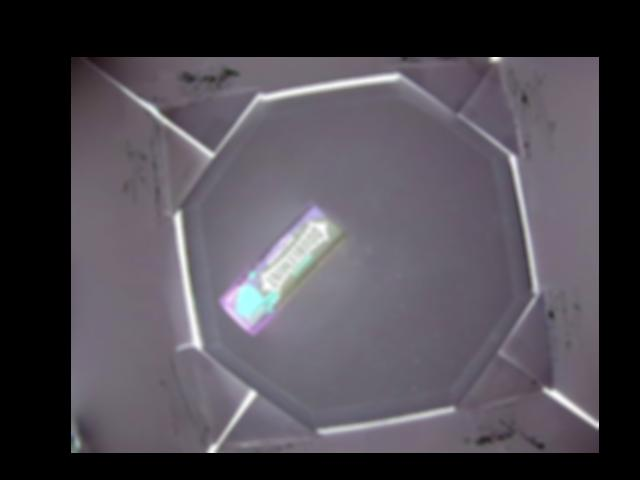Bottle: (219, 200, 344, 338)
